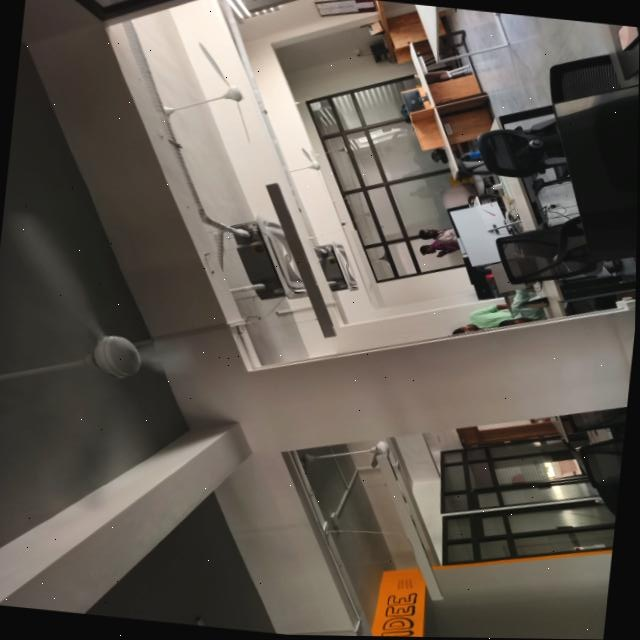fluorescent tube: (245, 176, 363, 342), (356, 446, 464, 606)
